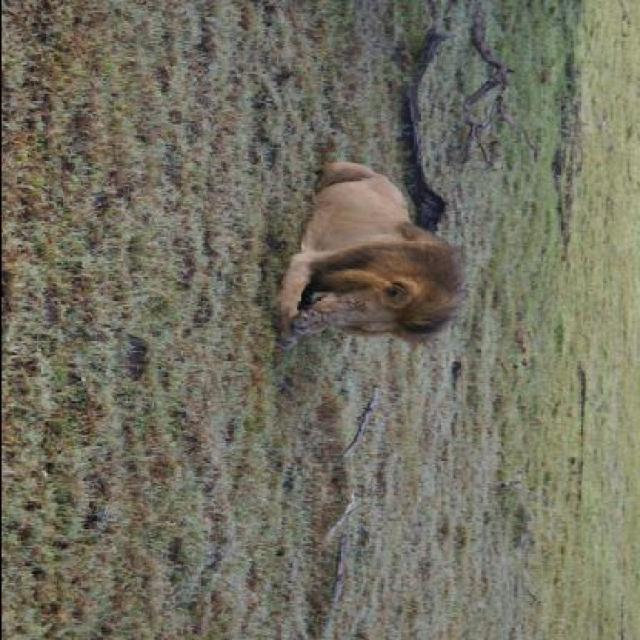Lion: (255, 152, 477, 352)
